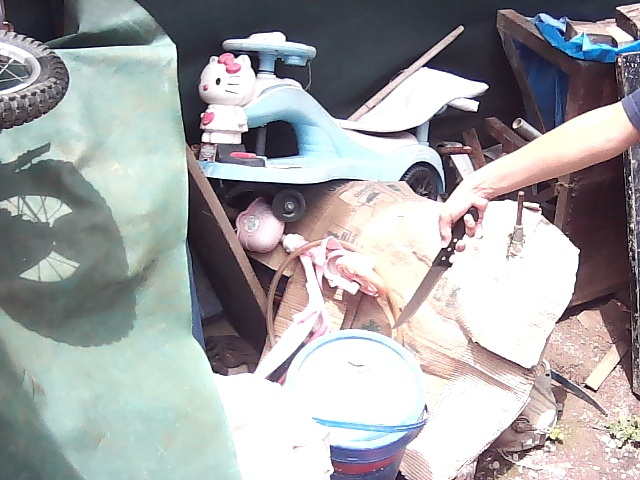cuchillo: (390, 218, 467, 333)
